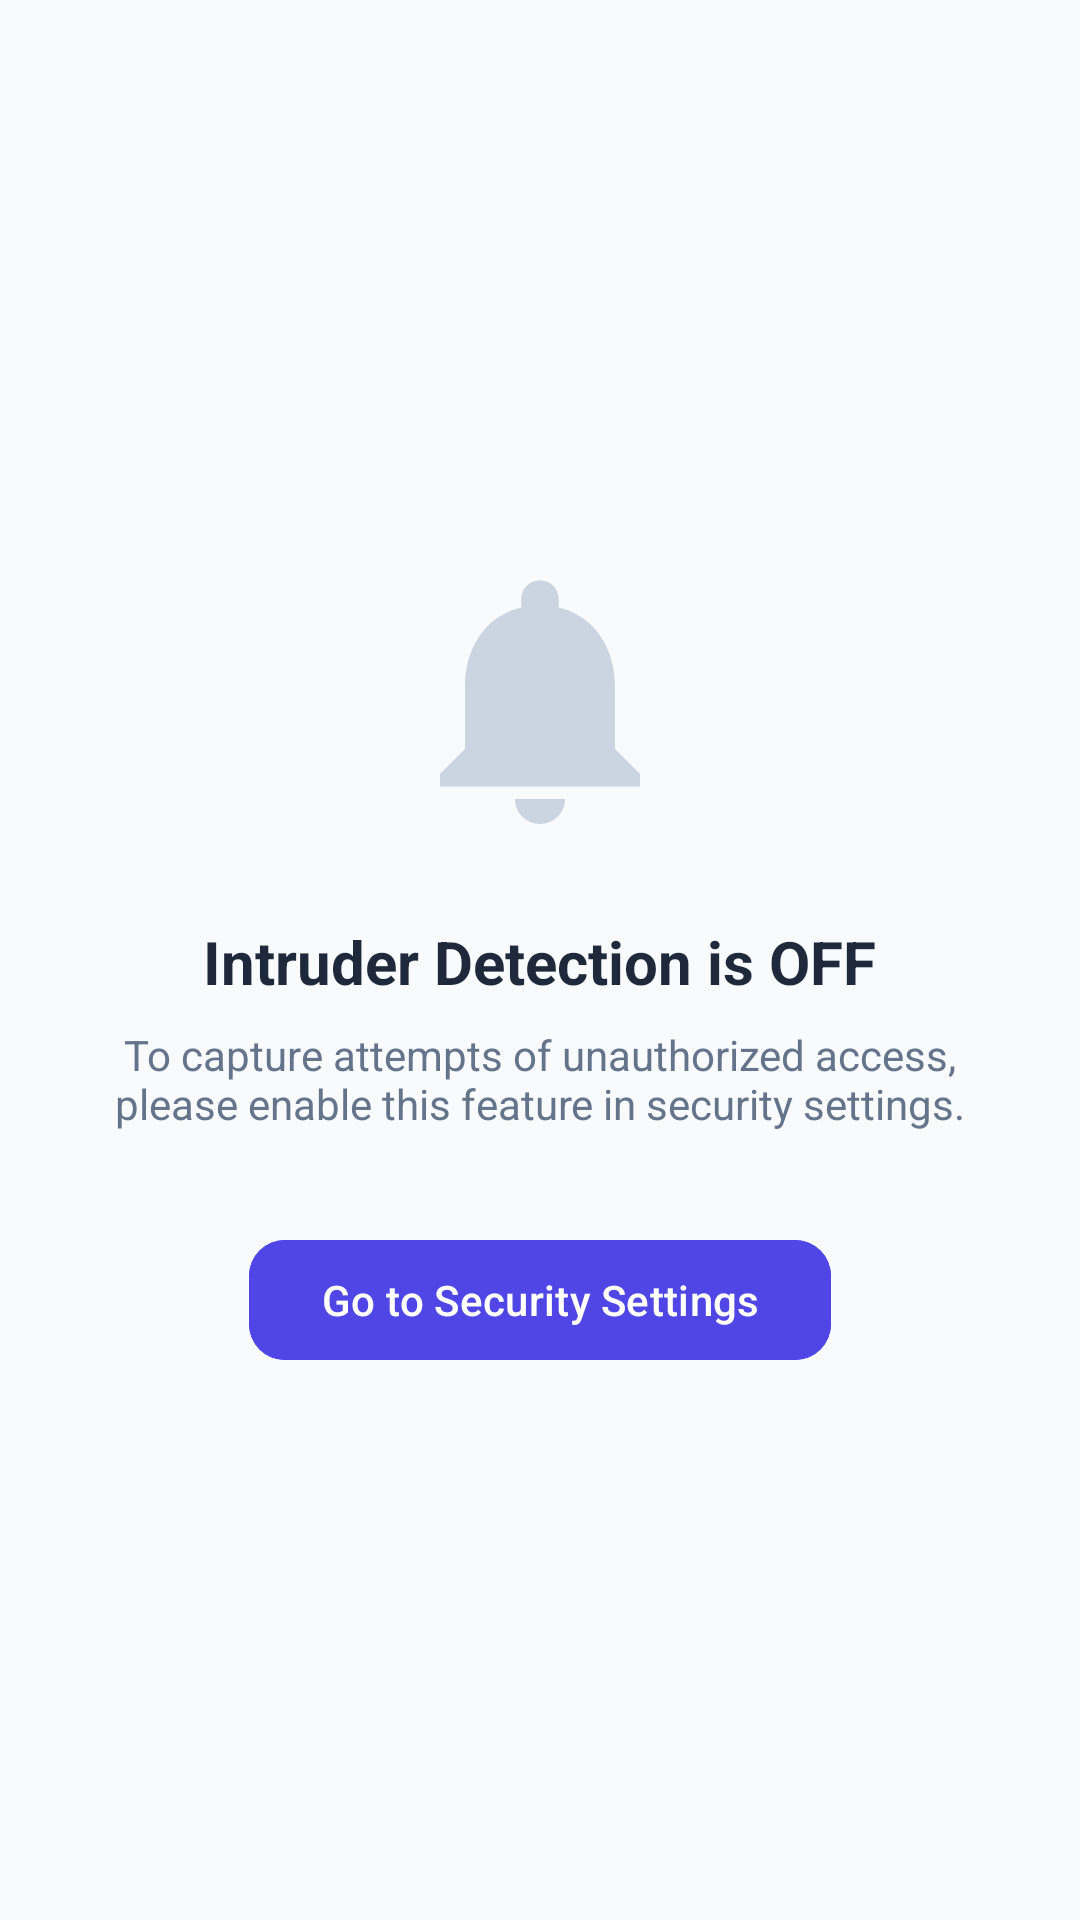

Icon click points for this 1080w x 1920h phone screenshot, format point (x, y):
alerts: point (540, 702)
